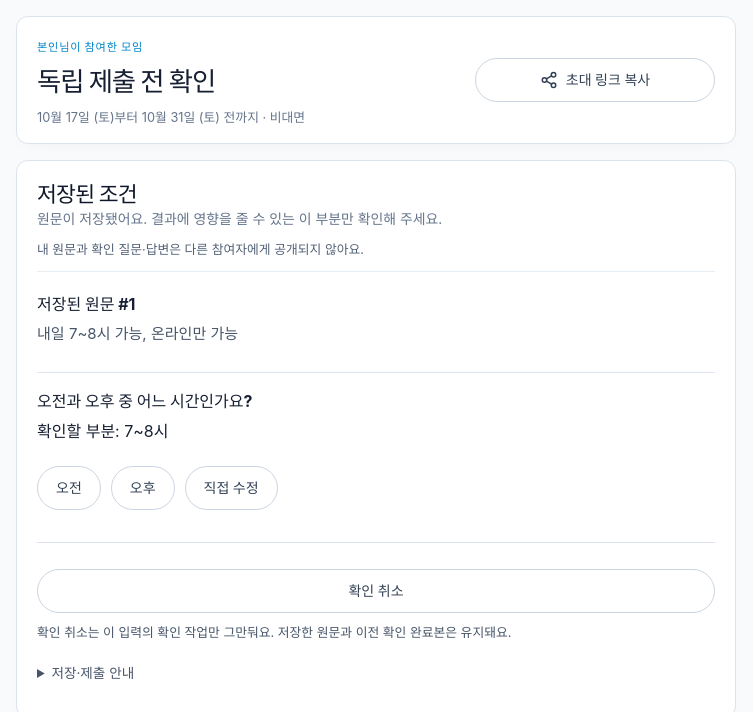
Test: #107 explicit choice, direct edit and failure handling › distinguishes successful server cancel from merely aborting a browser request
Click the button "확인 취소". click: [376, 591]
box: 37,569 -> 715,613
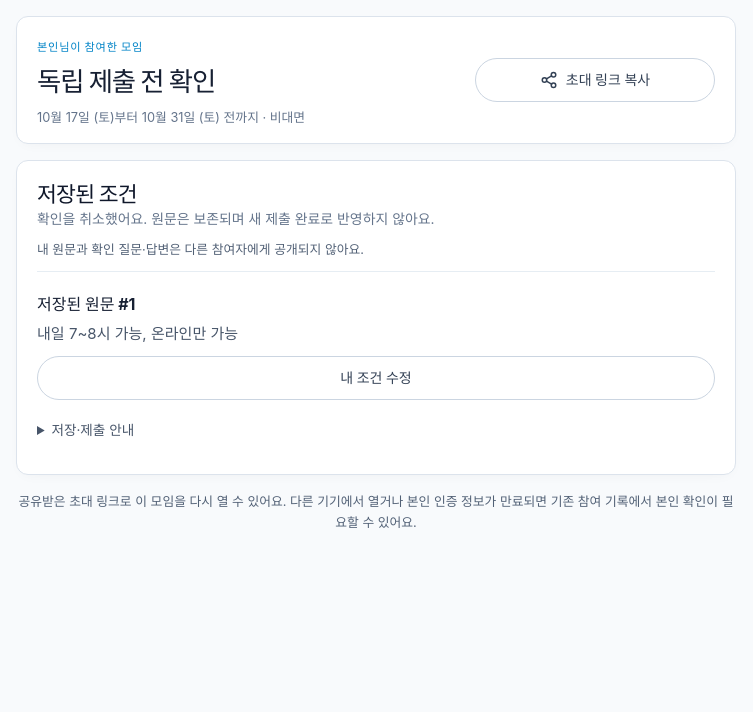
Expected: the text "확인을 취소했어요. 원문은 보존되며 새 제출 완료로 반영하지 않아요." is shown, 37,211 -> 434,227
